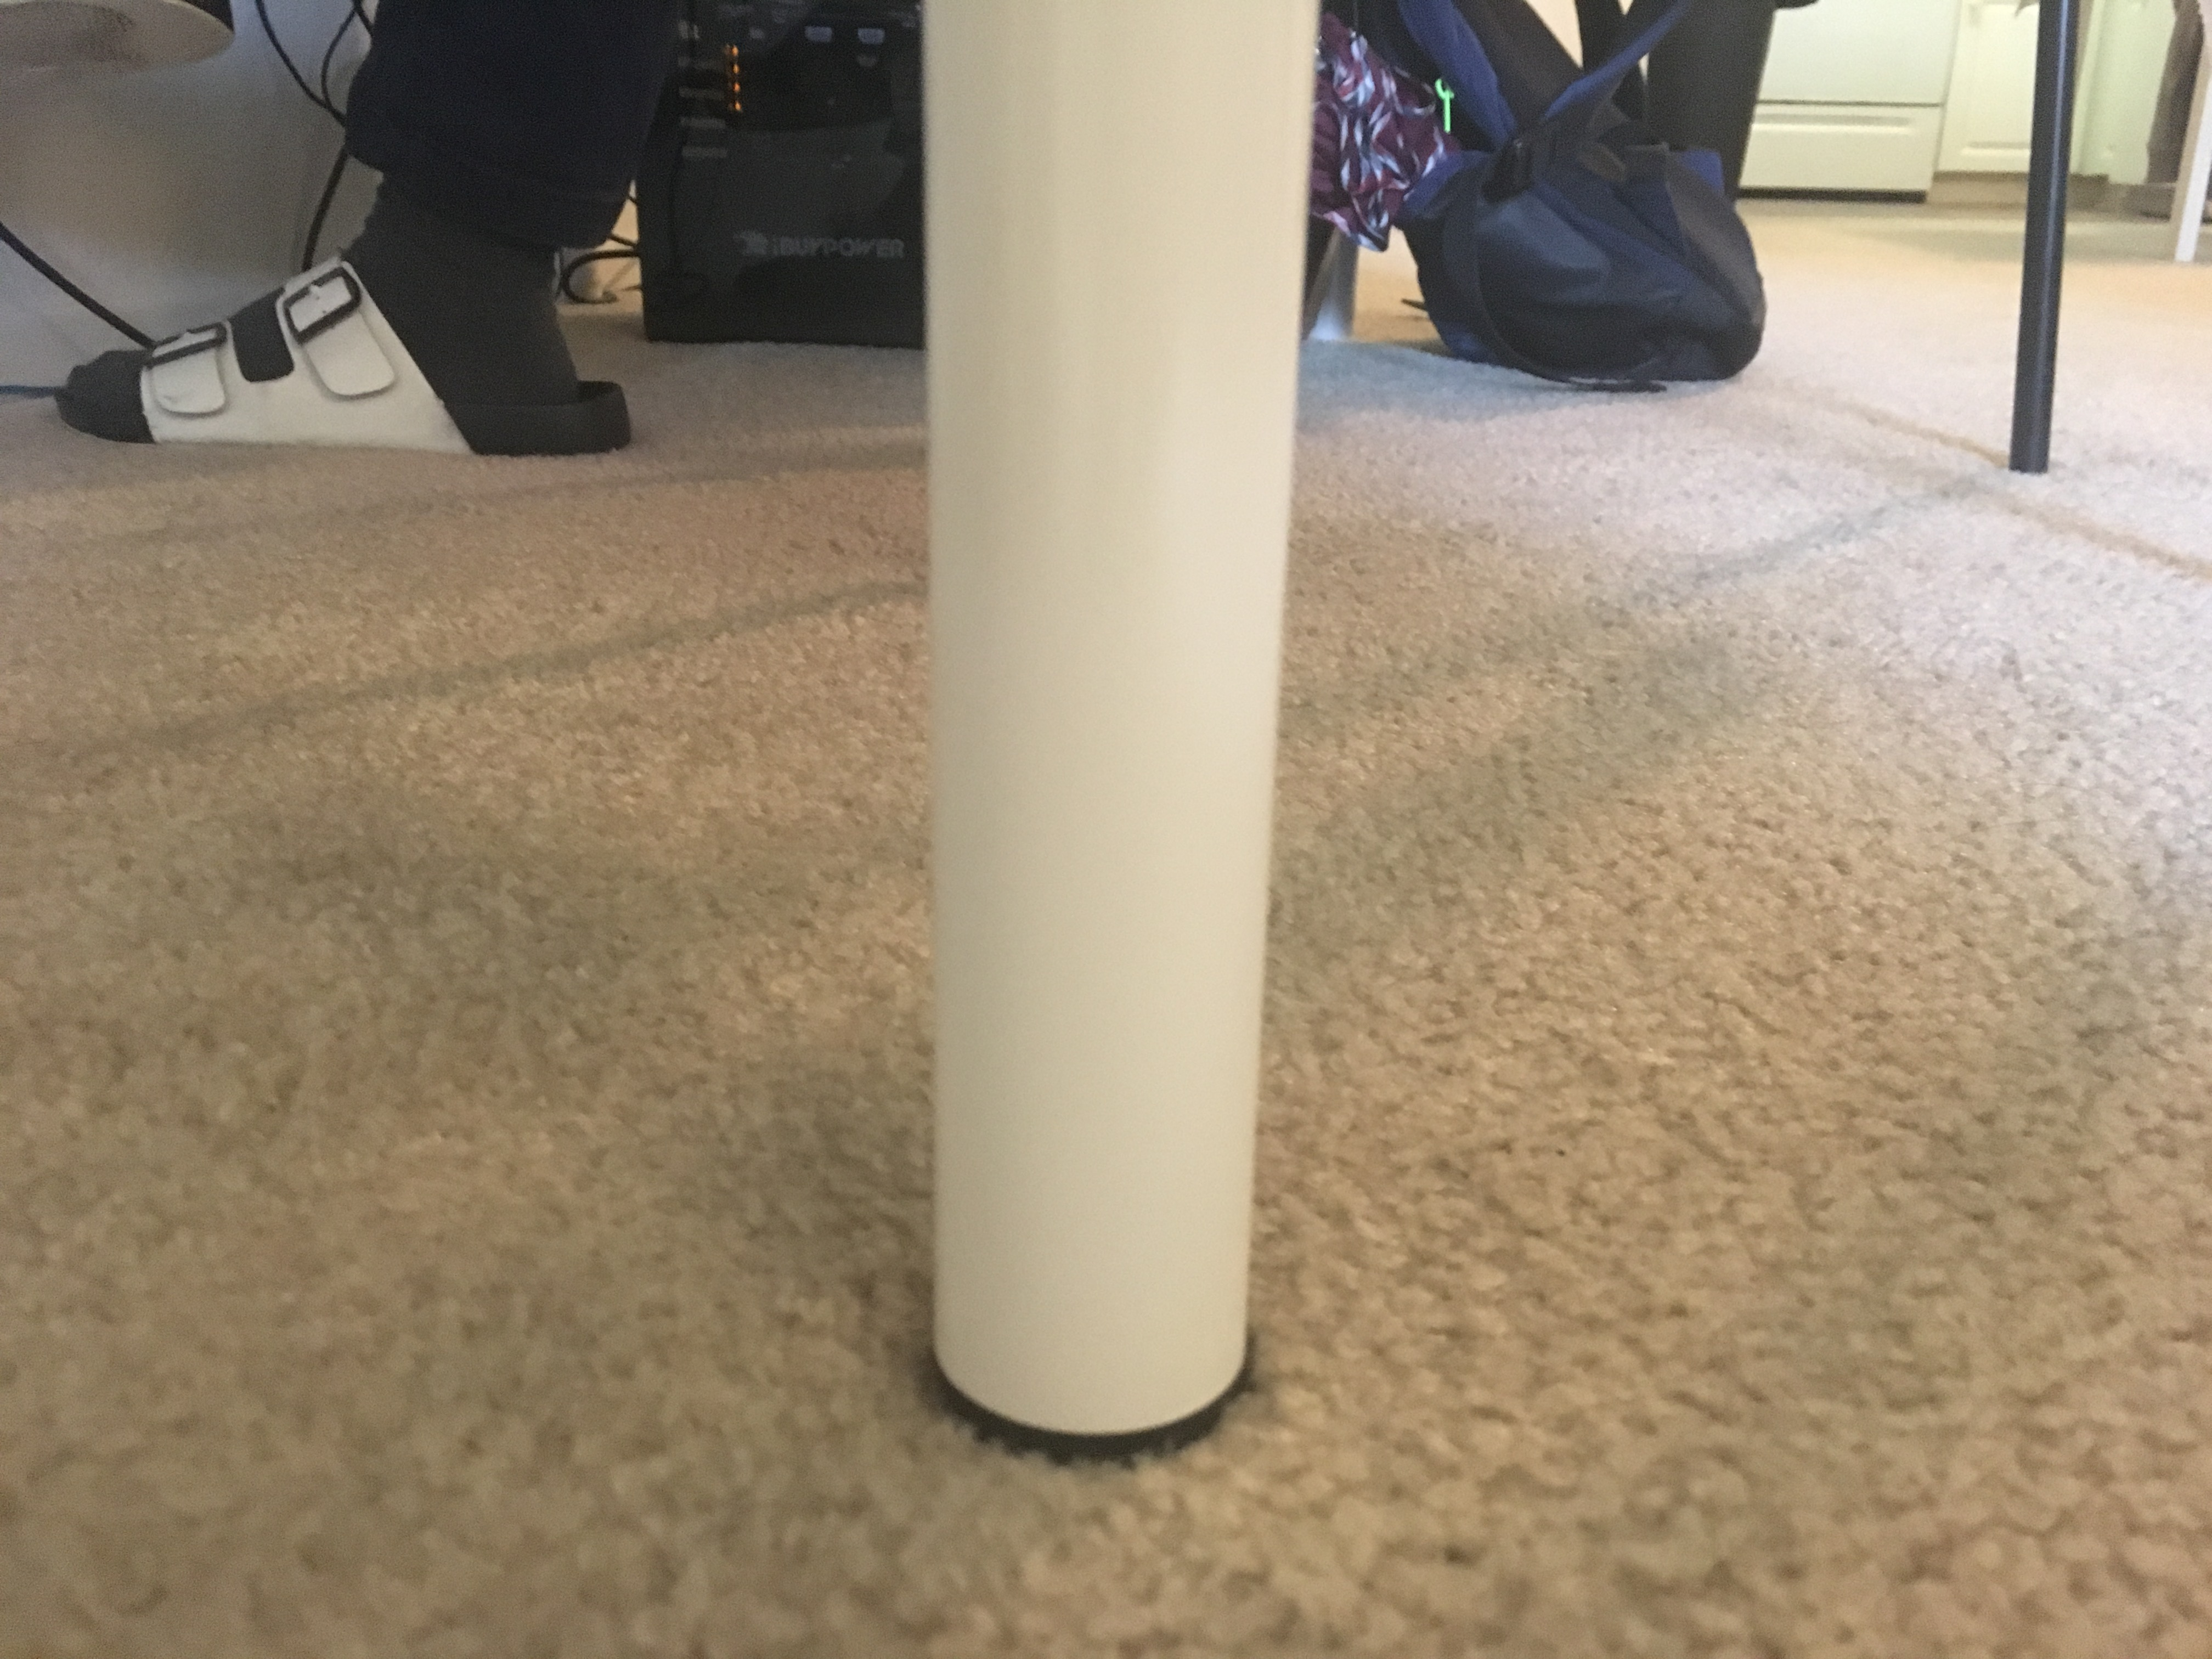Obstacle: (909, 5, 1282, 1441), (64, 3, 686, 464), (1313, 3, 1789, 420), (2010, 9, 2074, 474)
